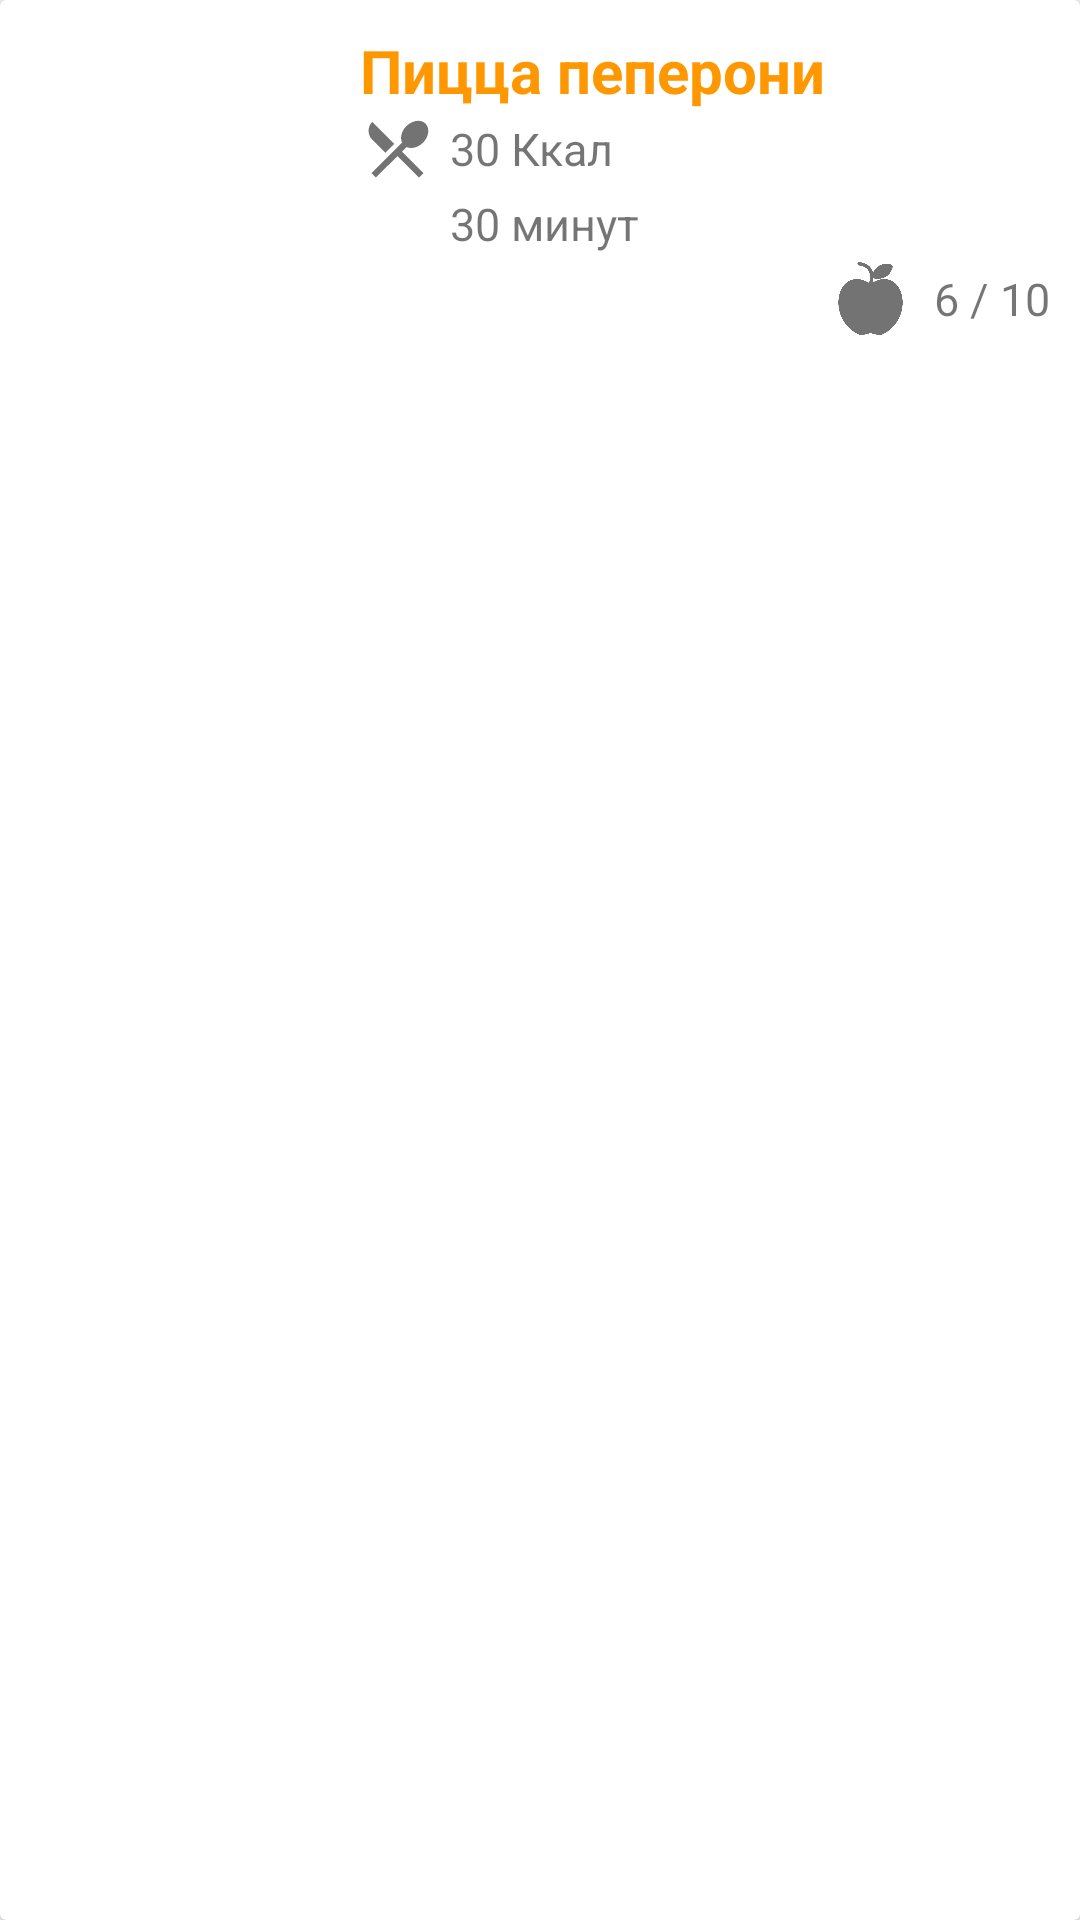

Named icons in this screenshot (1080×1920) and their bounding boxes, (x1, y1, x2, y2):
apple: (838, 262, 903, 335)
local dining: (368, 120, 429, 178)
